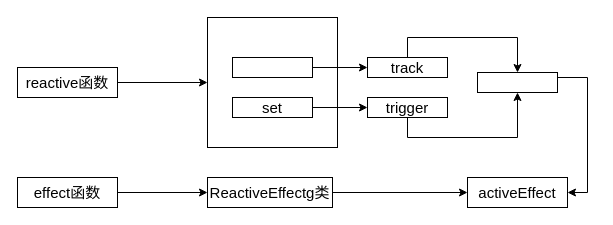
Some shapes in this 613 by 225 pixel diagram are drawn without their labels. Here are the shapes that lost their labels. From the top down, the box of each, then its label:
(232, 56, 312, 78): get
(206, 16, 338, 148): Proxy
(476, 72, 558, 92): TargetMap
